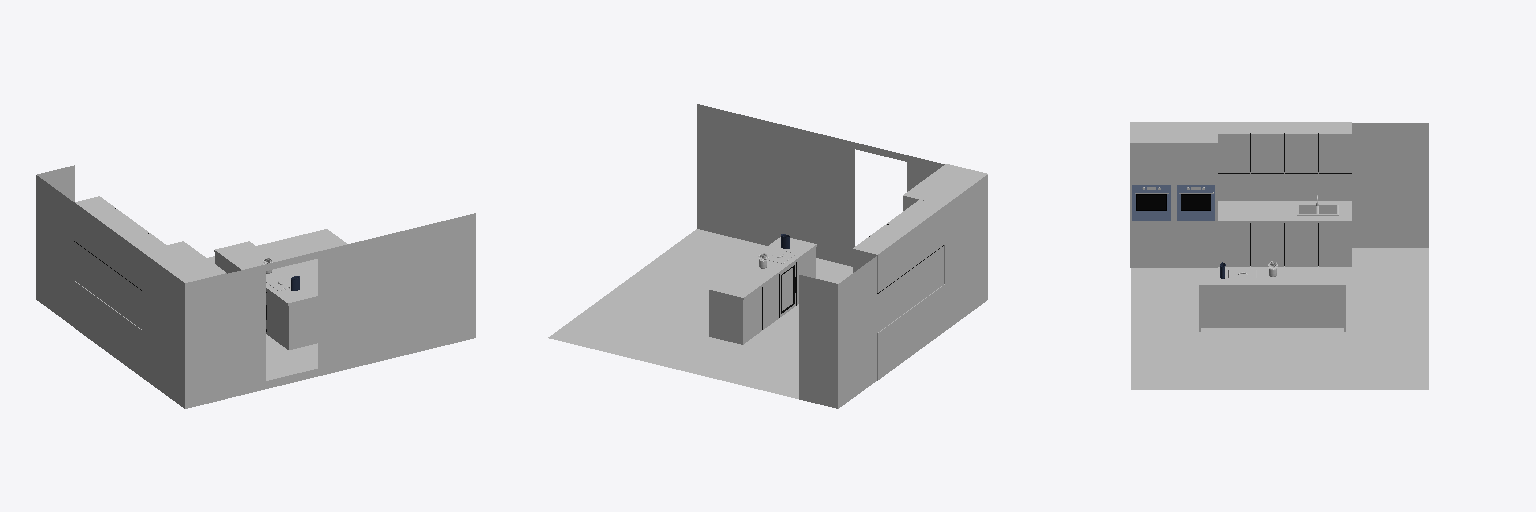
3 views of the same model, side by side, from view 1: azimuth 30°, elevation 25°; view 2: azimuth 150°, elevation 25°; view 3: azimuth 270°, elevation 25° (orthographic).
Visible parts, largest first — view 1: WindowWall_Wall, Cupboards_Cupboard, WindowWall.002_Wall, Floor_Floor, Tiles_Tiles, Counters_Counter, WindowWall.001_Wall; view 2: WindowWall_Wall, Floor_Floor, Cupboards_Cupboard, WindowWall.002_Wall, WindowWall.001_Wall, Tiles_Tiles, Counters_Counter; view 3: Floor_Floor, Cupboards_Cupboard, WindowWall.002_Wall, Counters_Counter, Tiles_Tiles, Ovens_Oven, Ovens_OvenWindow.
Part boxes in pixels (left/top/right/bottom): WindowWall_Wall: left=227, top=213, right=475, bottom=398; Cupboards_Cupboard: left=74, top=196, right=317, bottom=408; WindowWall.002_Wall: left=36, top=175, right=75, bottom=326; Floor_Floor: left=207, top=229, right=346, bottom=380; Tiles_Tiles: left=76, top=243, right=141, bottom=328; Counters_Counter: left=74, top=241, right=317, bottom=332; WindowWall.001_Wall: left=37, top=165, right=74, bottom=201; WindowWall_Wall: left=697, top=104, right=944, bottom=266; Floor_Floor: left=548, top=229, right=852, bottom=398; Cupboards_Cupboard: left=709, top=164, right=987, bottom=380; WindowWall.002_Wall: left=838, top=256, right=877, bottom=408; WindowWall.001_Wall: left=799, top=275, right=837, bottom=408; Tiles_Tiles: left=878, top=246, right=943, bottom=331; Counters_Counter: left=709, top=237, right=944, bottom=335; Floor_Floor: left=1131, top=248, right=1428, bottom=389; Cupboards_Cupboard: left=1130, top=122, right=1351, bottom=331; WindowWall.002_Wall: left=1350, top=123, right=1428, bottom=247; Counters_Counter: left=1199, top=201, right=1351, bottom=286; Tiles_Tiles: left=1218, top=172, right=1349, bottom=200; Ovens_Oven: left=1132, top=185, right=1214, bottom=220; Ovens_OvenWindow: left=1137, top=195, right=1210, bottom=209.
Size of the model in its own units: 13.42 by 5.54 by 11.93.
23 materials, 1 textured.